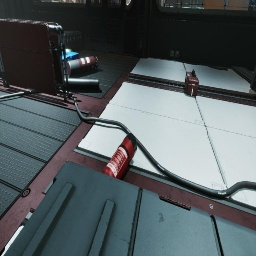0: (62, 49, 74, 56)
FireExtinguisher ]: (102, 133, 137, 180)
FirstAidBox ,: (184, 69, 199, 96)
NitrogenTank ,: (67, 56, 98, 77)
